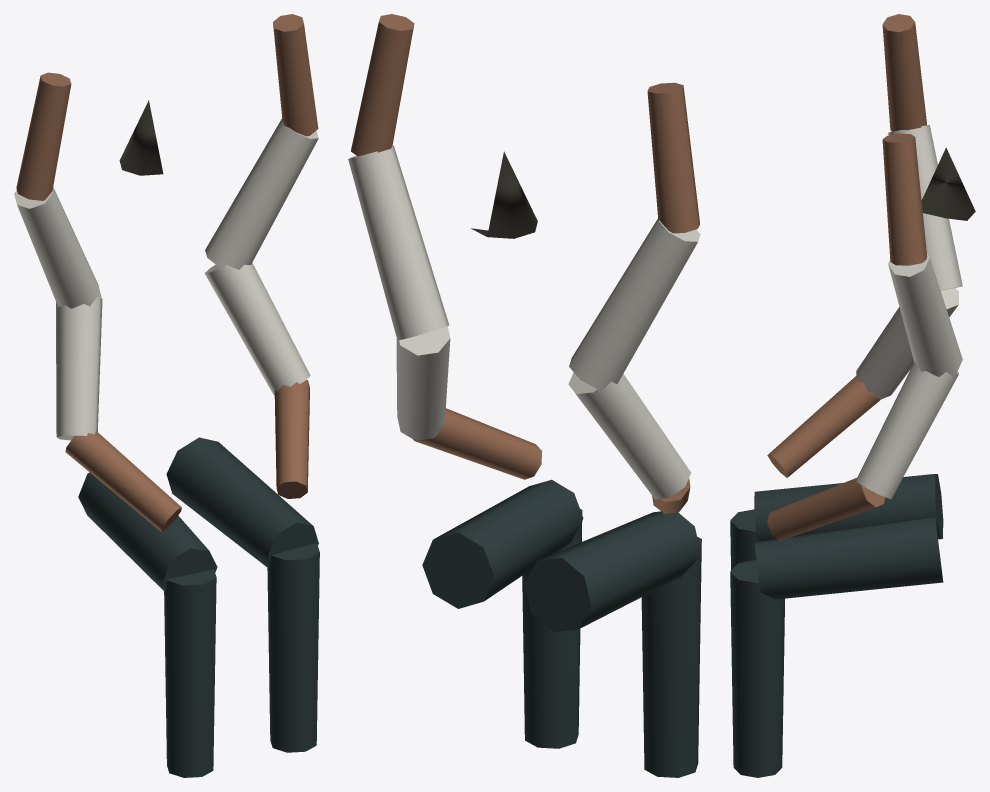
File: crowd-prototypes.glb
The picture shows the model from 3 angles, left to right: view 1: azimuth 30°, elevation 25°; view 2: azimuth 150°, elevation 25°; view 3: azimuth 270°, elevation 25°; orthographic projection. The views are drawn at different scales.
Visible parts, largest first — view 1: Crowd_Cheer, Crowd_LOD0; view 2: Crowd_Cheer, Crowd_LOD0; view 3: Crowd_Cheer, Crowd_LOD0.
Boxes of the visible parts, x1,y1,x2,y2 form: Crowd_Cheer: (14, 14, 319, 777); Crowd_LOD0: (56, 115, 316, 777); Crowd_Cheer: (348, 14, 701, 764); Crowd_LOD0: (396, 152, 700, 777); Crowd_Cheer: (730, 14, 962, 777); Crowd_LOD0: (730, 147, 975, 774).
Size of what is drawn, in the model's own units: 0.6963 by 1.46 by 0.4878.
